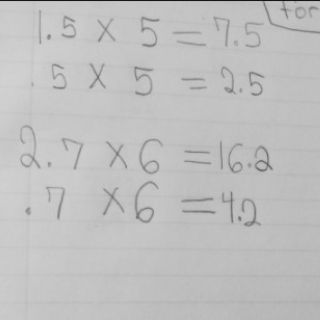.: (46, 32, 51, 41)
1: (35, 8, 45, 45)
2: (16, 120, 44, 170), (216, 59, 236, 94)
4: (220, 186, 235, 224)
5: (61, 13, 77, 39)
6: (133, 177, 161, 226), (227, 140, 244, 173)
7: (44, 180, 71, 220), (212, 13, 231, 46)
